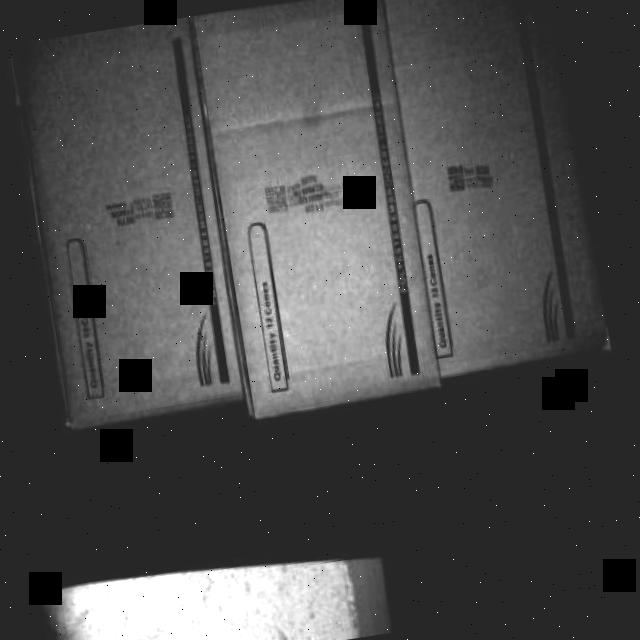box: (185, 0, 452, 417), (1, 16, 254, 427), (382, 0, 623, 381)
